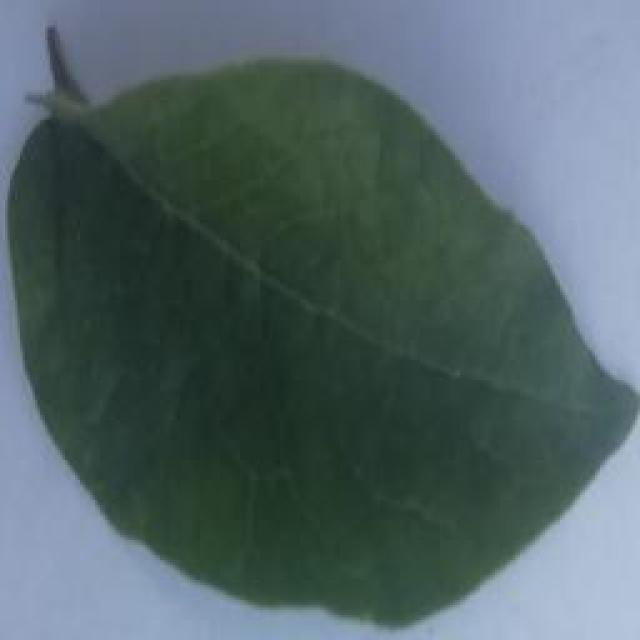Potato_Healthy: (9, 31, 627, 633)
